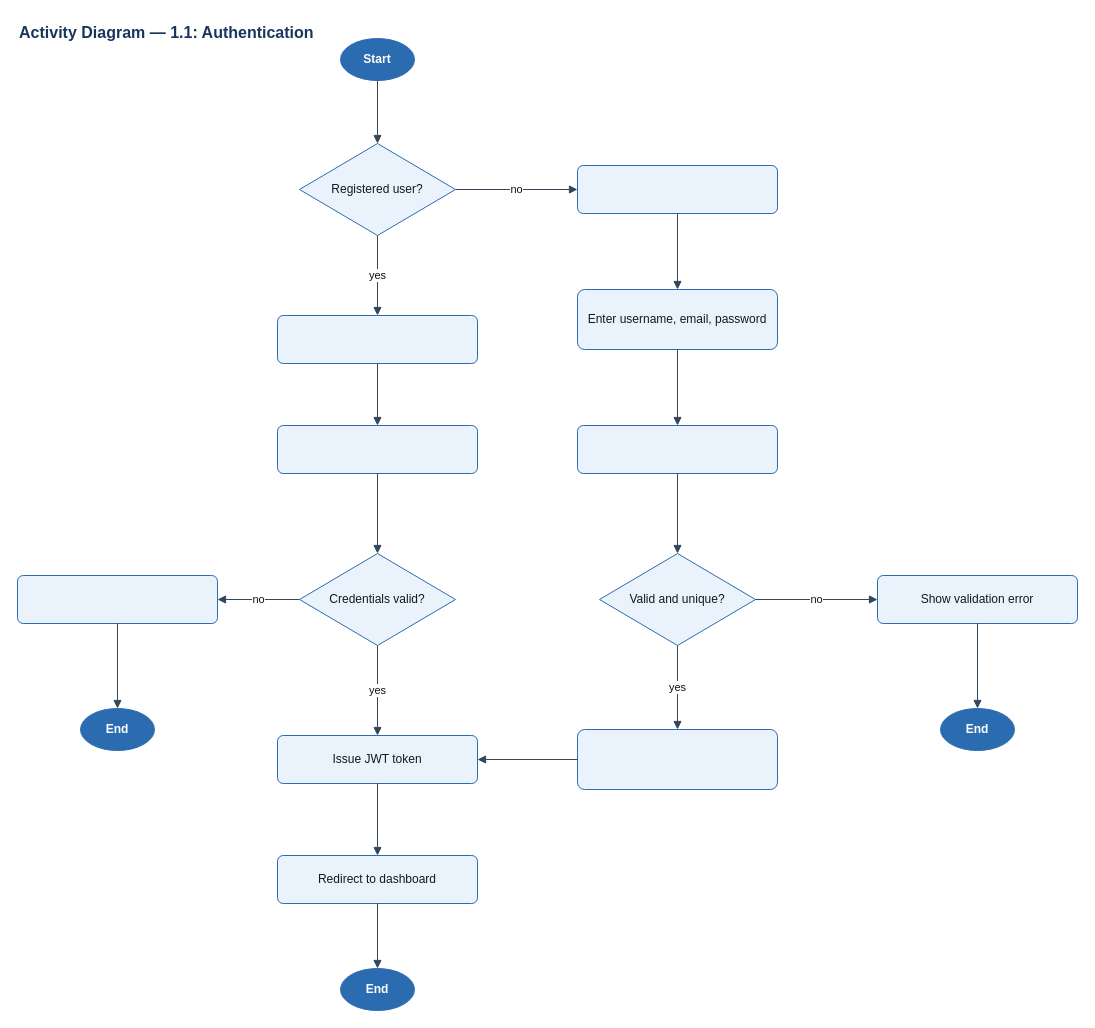
Some shapes in this 1095 by 1028 pixel diagram are drawn without their labels. Each missing label, with the centre of its shape:
Create account (hash password): (677,759)
Enter email and password: (377,339)
Open sign-up form: (677,189)
Show error message: (117,599)
Submit login: (377,449)
Submit registration: (677,449)
